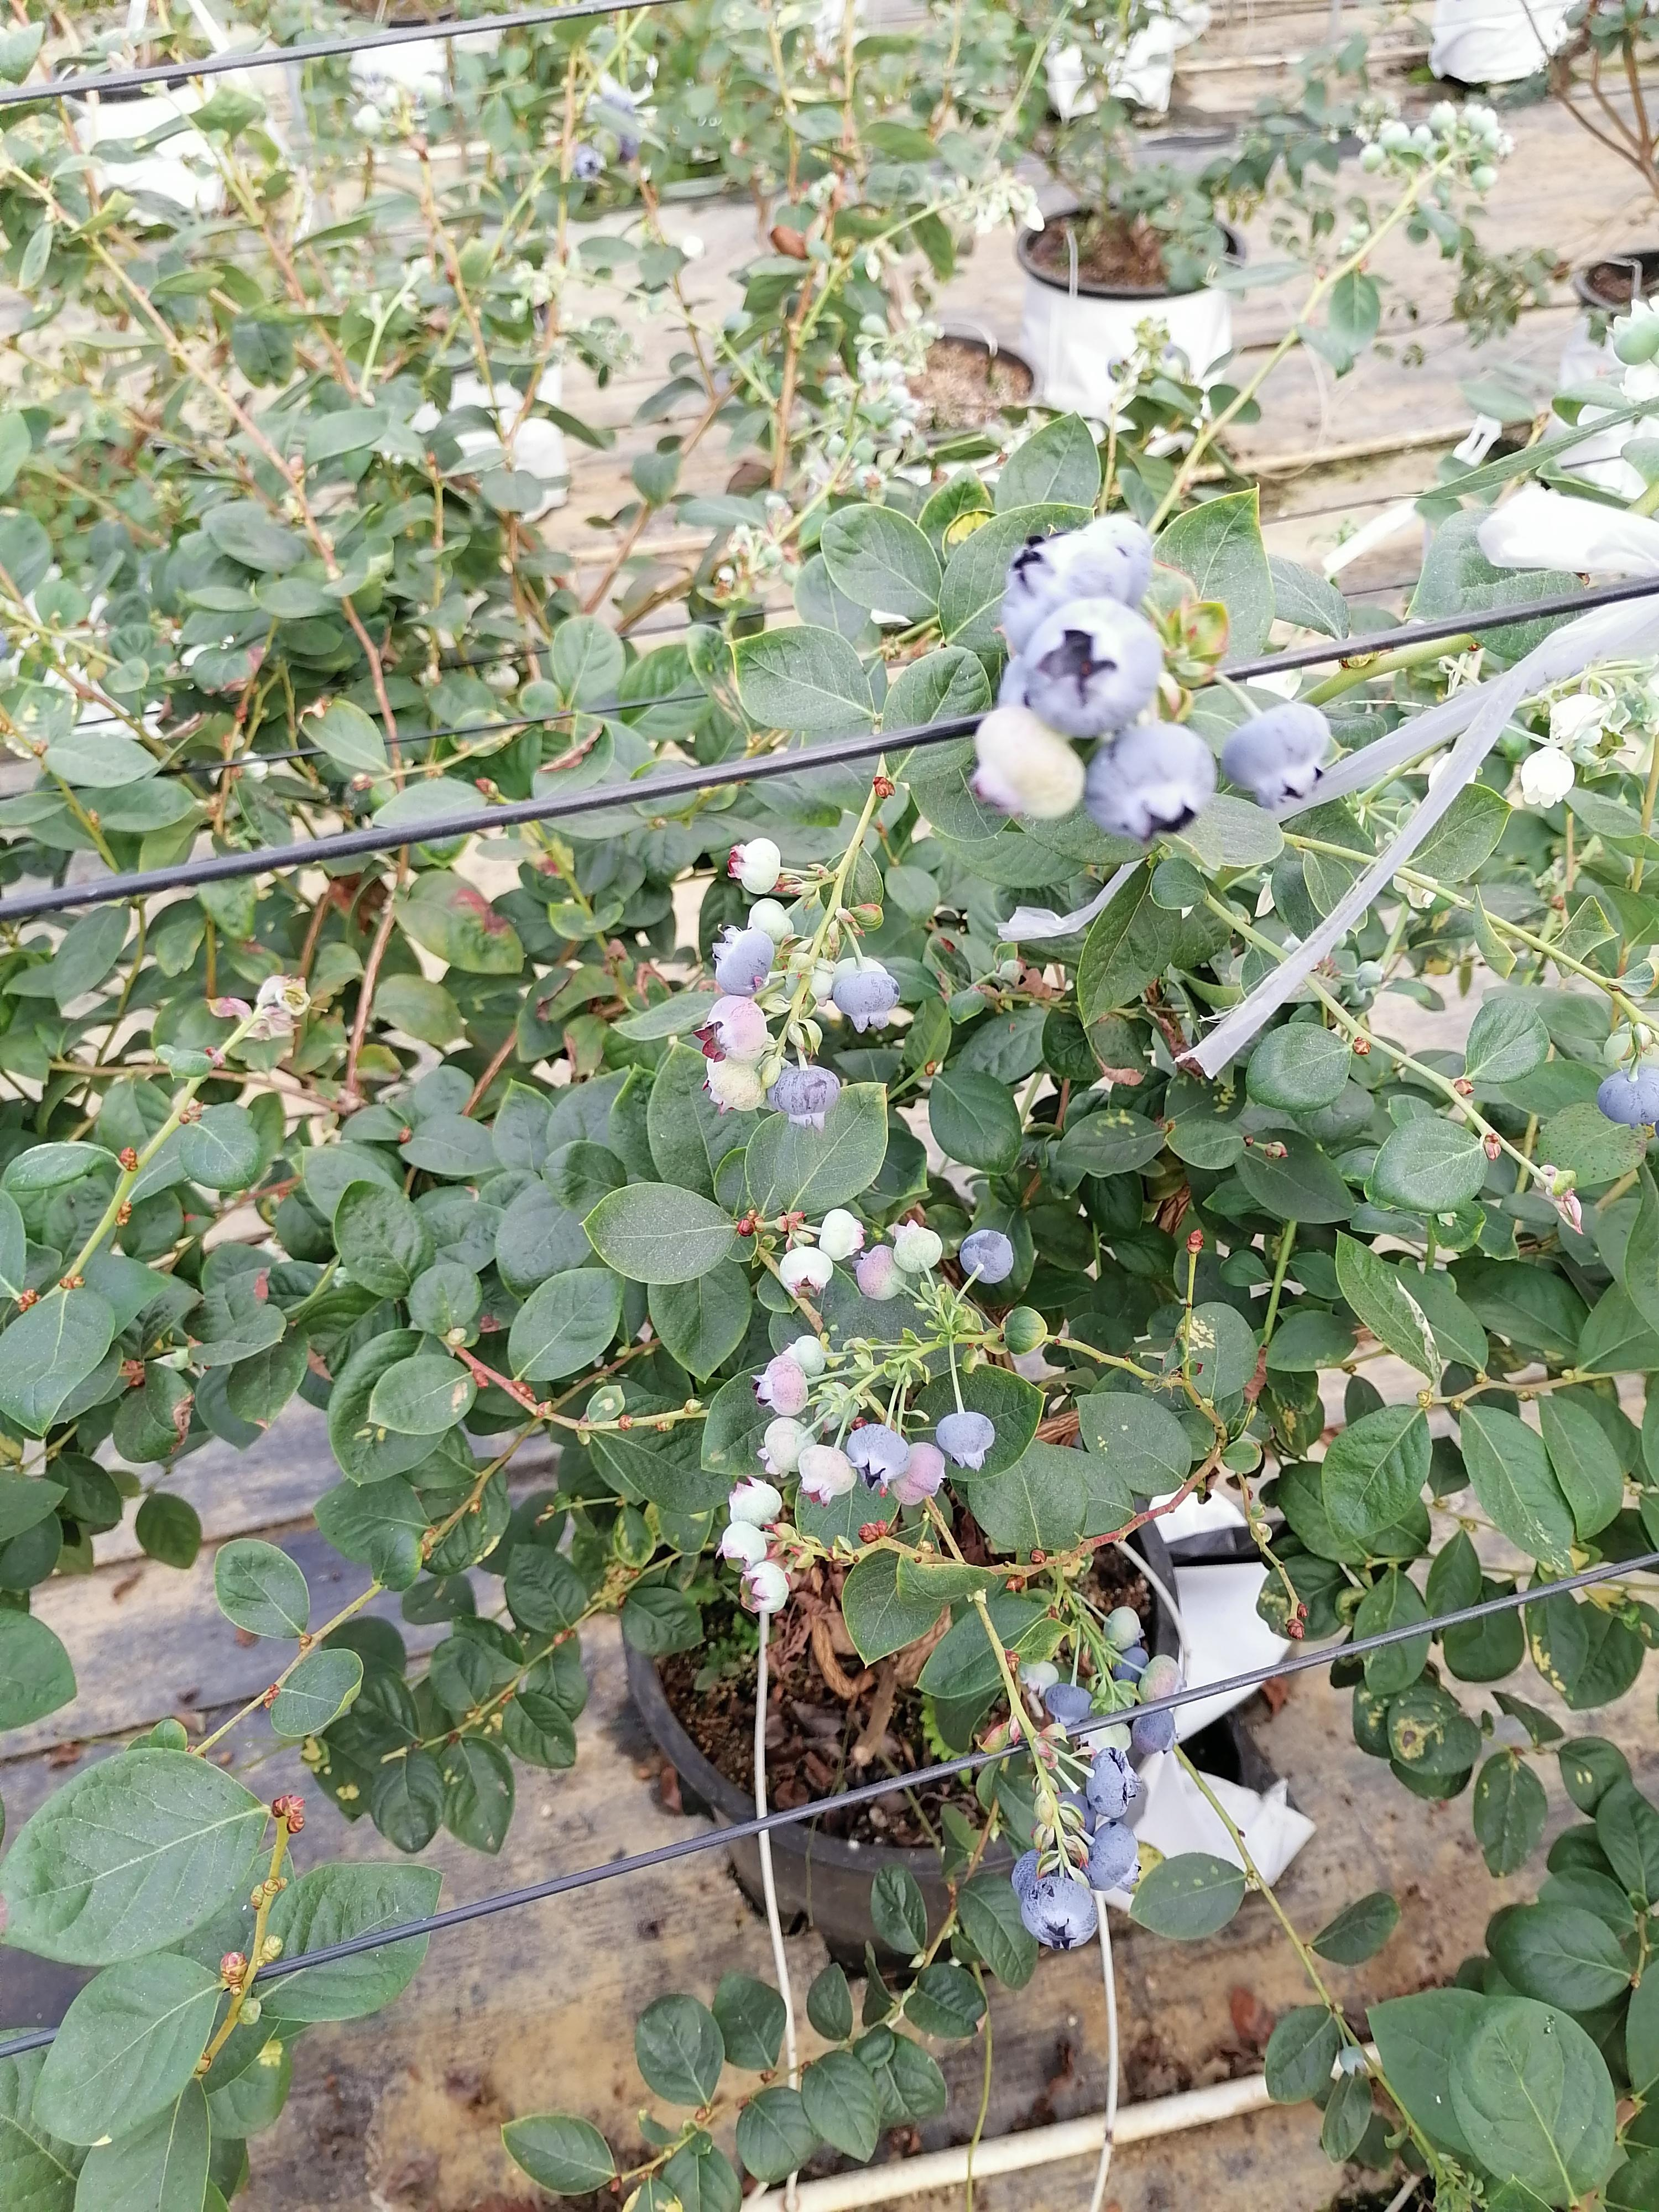ripe-blueberries: (1026, 599, 1162, 738), (1082, 723, 1216, 845), (1002, 531, 1129, 655), (1220, 702, 1331, 810), (1077, 514, 1154, 608), (1019, 1878, 1100, 1951), (767, 1064, 842, 1132), (711, 925, 775, 996), (845, 1423, 911, 1491), (833, 970, 901, 1035), (1080, 1820, 1141, 1892), (1087, 1747, 1141, 1818), (1596, 1064, 1657, 1127), (936, 1411, 995, 1468), (960, 1230, 1014, 1284), (1012, 1850, 1058, 1900), (1131, 1710, 1178, 1754), (1044, 1684, 1093, 1726), (997, 657, 1028, 707), (1060, 1792, 1098, 1832), (1115, 1648, 1148, 1686)
